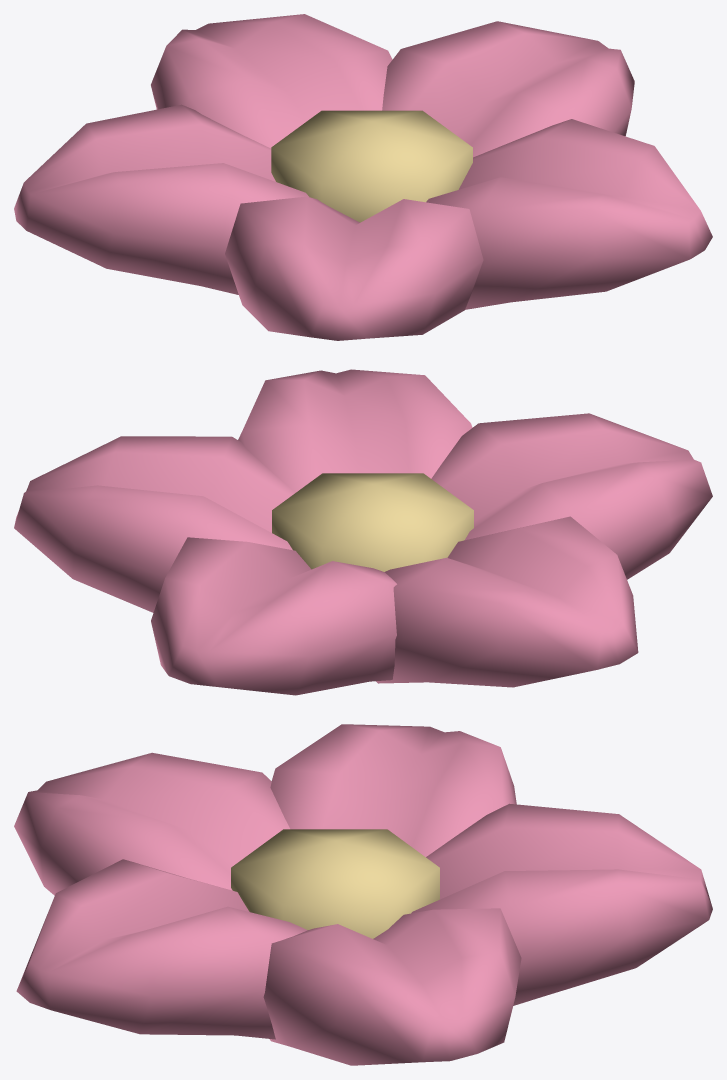
Rendered from Flower.fbx.
3 views of the same model, one above another, from view 1: azimuth 30°, elevation 25°; view 2: azimuth 150°, elevation 25°; view 3: azimuth 270°, elevation 25° (orthographic). The views are drawn at different scales.
Parts seen in each view (by area): view 1: Flower_01; view 2: Flower_01; view 3: Flower_01.
Part boxes in pixels (box(x1,y1,x2,y2)): Flower_01: box(14, 14, 712, 340); Flower_01: box(14, 369, 712, 695); Flower_01: box(14, 724, 712, 1065).
Bounding box in the file's own units: 66.61 × 18.17 × 63.82.
